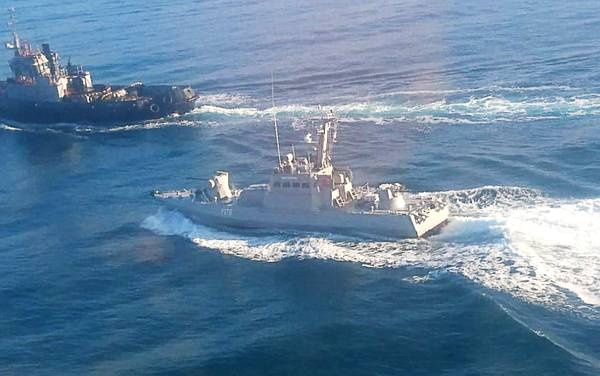otherboat: (1, 30, 201, 117)
warship: (147, 110, 455, 238)
